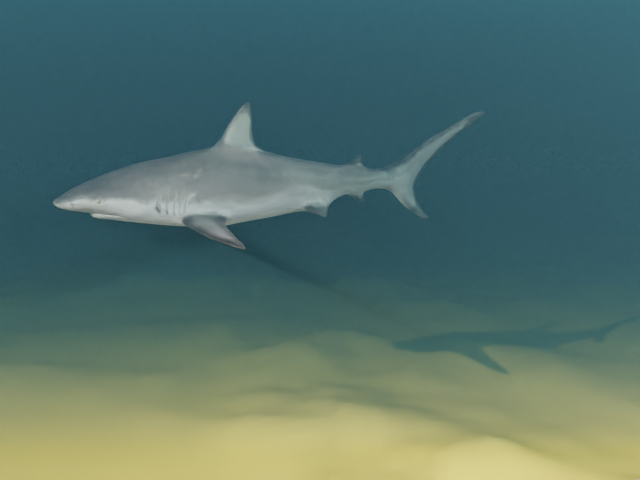Carribean Shark.001: (52, 102, 484, 249)
